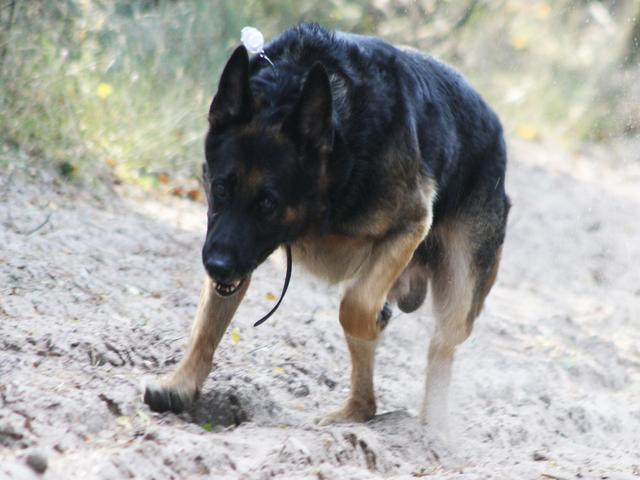dog: (172, 13, 517, 431)
